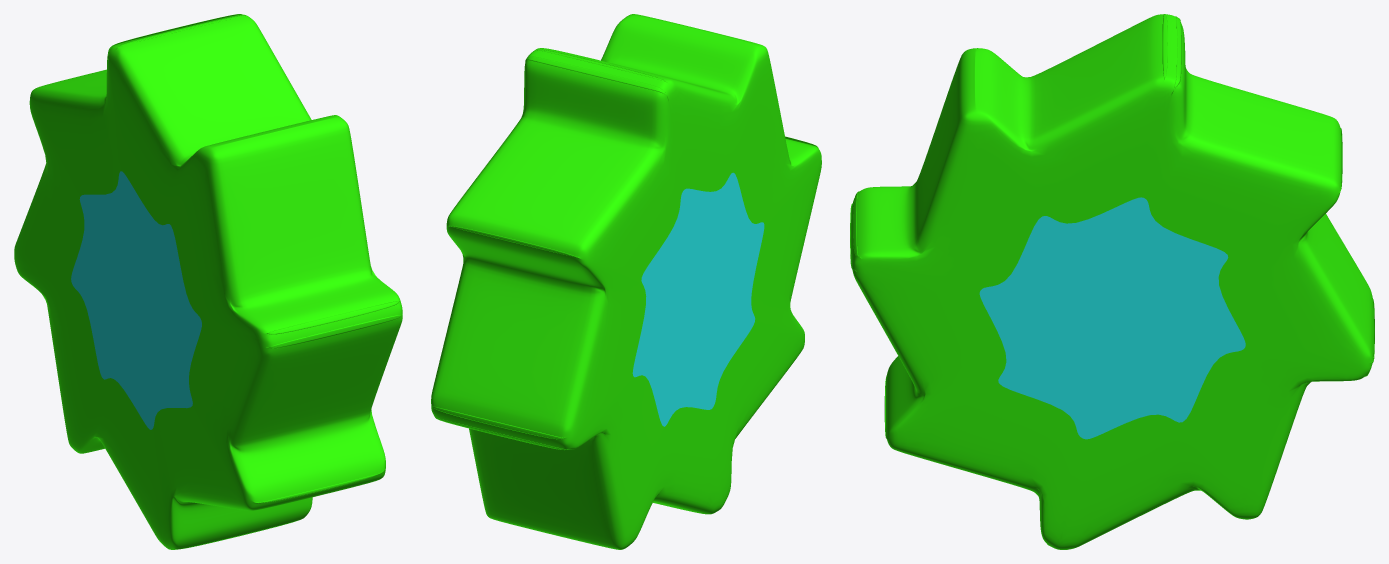
Rendered from Ball.fbx.
3 views of the same model, side by side, from view 1: azimuth 30°, elevation 25°; view 2: azimuth 150°, elevation 25°; view 3: azimuth 270°, elevation 25° (orthographic).
Parts seen in each view (by area): view 1: Cube; view 2: Cube; view 3: Cube.
Part boxes in pixels (bbox=[...]): Cube: bbox=[14, 14, 402, 549]; Cube: bbox=[431, 14, 821, 549]; Cube: bbox=[850, 14, 1374, 549].
Bounding box in the file's own units: 63.05 × 197 × 196.
